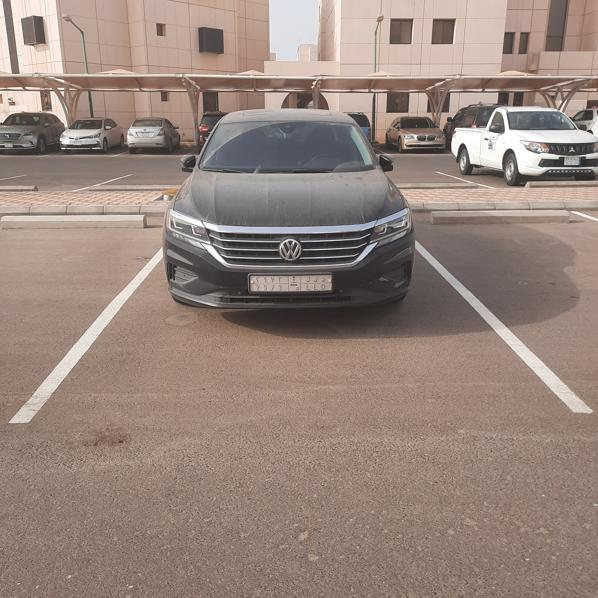numberplate: (249, 274, 332, 291)
